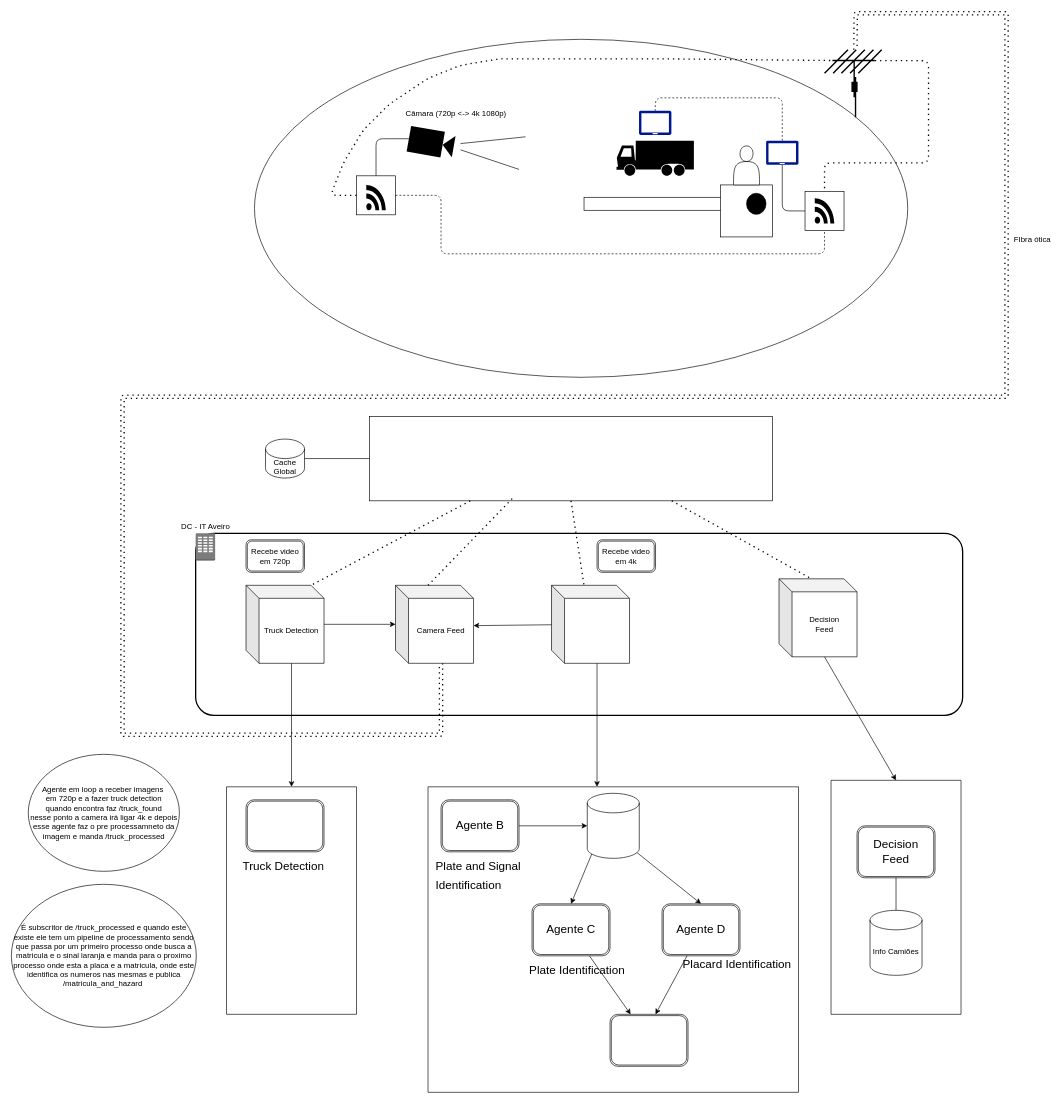
This 1063x1104 diagram has some shape labels left out. Each missing label, with the box of its shape:
Agente A: (245, 799, 324, 852)
Antena 5G: (824, 49, 882, 118)
Cancela do porto: (583, 197, 727, 210)
Consenso Decision: (609, 1014, 688, 1066)
Crop Queue: (587, 793, 639, 858)
Middleware (Broker MQTT): (369, 416, 773, 501)
Truck Specifications: (551, 585, 630, 663)
